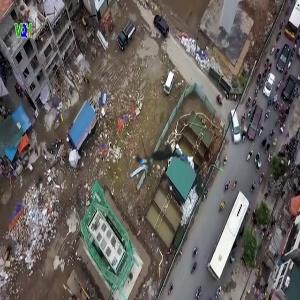drone: (59, 63, 246, 250)
